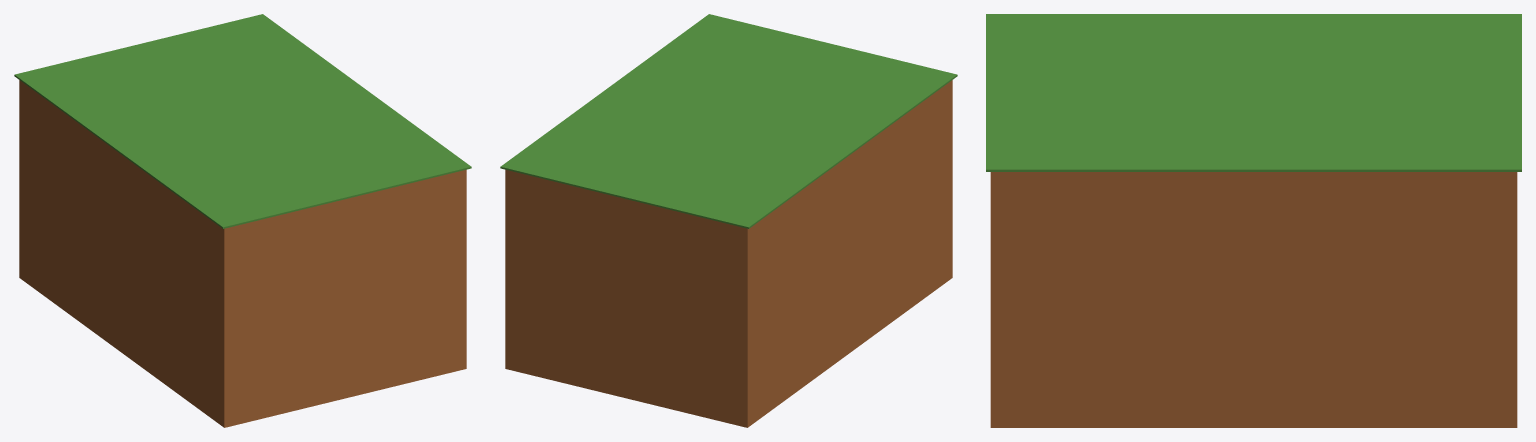
The model's file is O_SPlatform6.glb.
3 views of the same model, side by side, from view 1: azimuth 30°, elevation 25°; view 2: azimuth 150°, elevation 25°; view 3: azimuth 270°, elevation 25° (orthographic). The views are drawn at different scales.
Visible parts, largest first — view 1: SPlatform6; view 2: SPlatform6; view 3: SPlatform6.
Part boxes in pixels (x1,y1,x2,y2): SPlatform6: [14, 14, 471, 427]; SPlatform6: [500, 14, 957, 427]; SPlatform6: [986, 14, 1521, 427].
Size of what is drawn, in the model's own units: 15.39 by 12 by 22.39.
